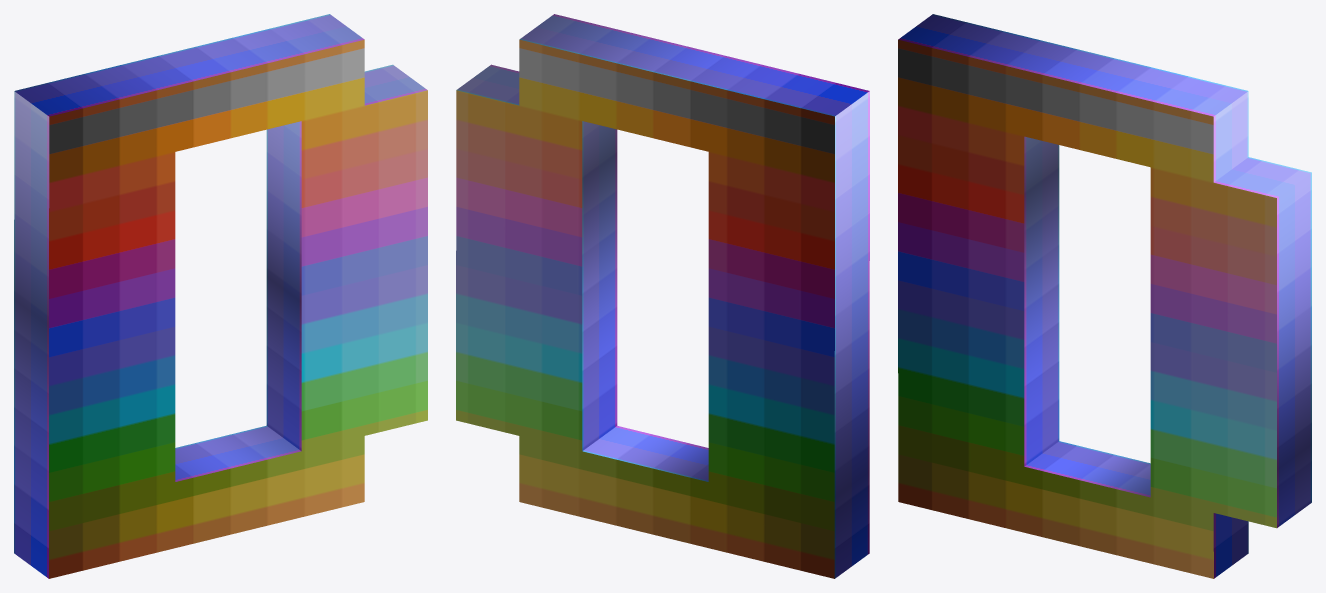
3 views of the same model, side by side, from view 1: azimuth 30°, elevation 25°; view 2: azimuth 150°, elevation 25°; view 3: azimuth 330°, elevation 25° (orthographic).
Visible parts, largest first — view 1: d; view 2: d; view 3: d.
Boxes of the visible parts, box(x1,y1,x2,y2) form: d: box(14, 14, 427, 578); d: box(456, 14, 869, 578); d: box(898, 14, 1311, 578).
Bounding box in the file's own units: 0.5 × 0.5834 × 0.0803.
Materials: 1 (1 with a texture image).
